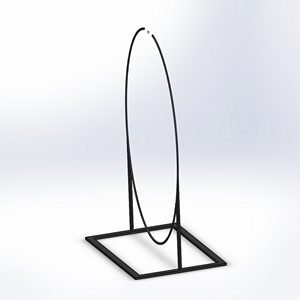circle: (82, 25, 227, 279)
